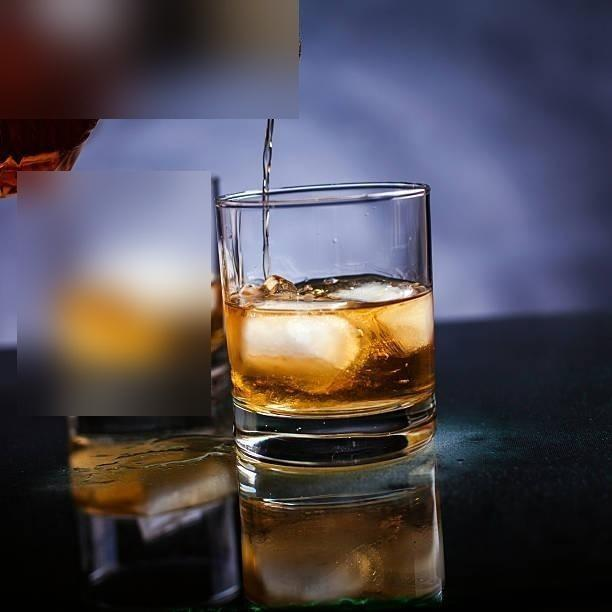glass-normal: (211, 178, 442, 482)
